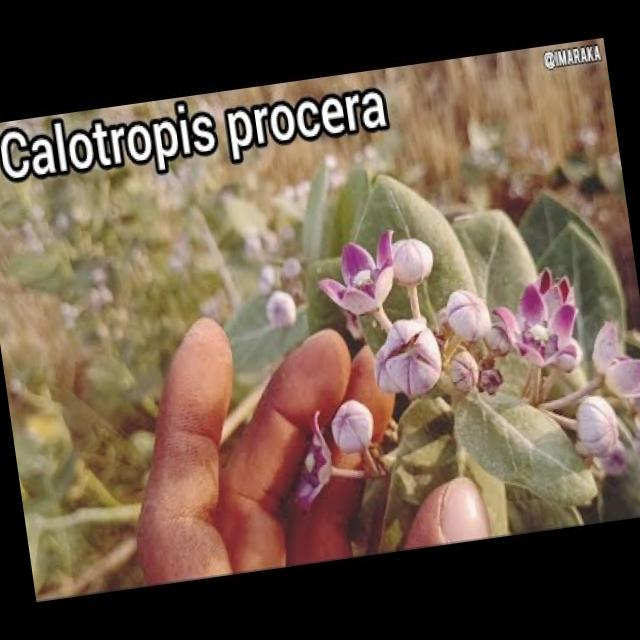Poisonous-Calatropis: (373, 199, 640, 505)
